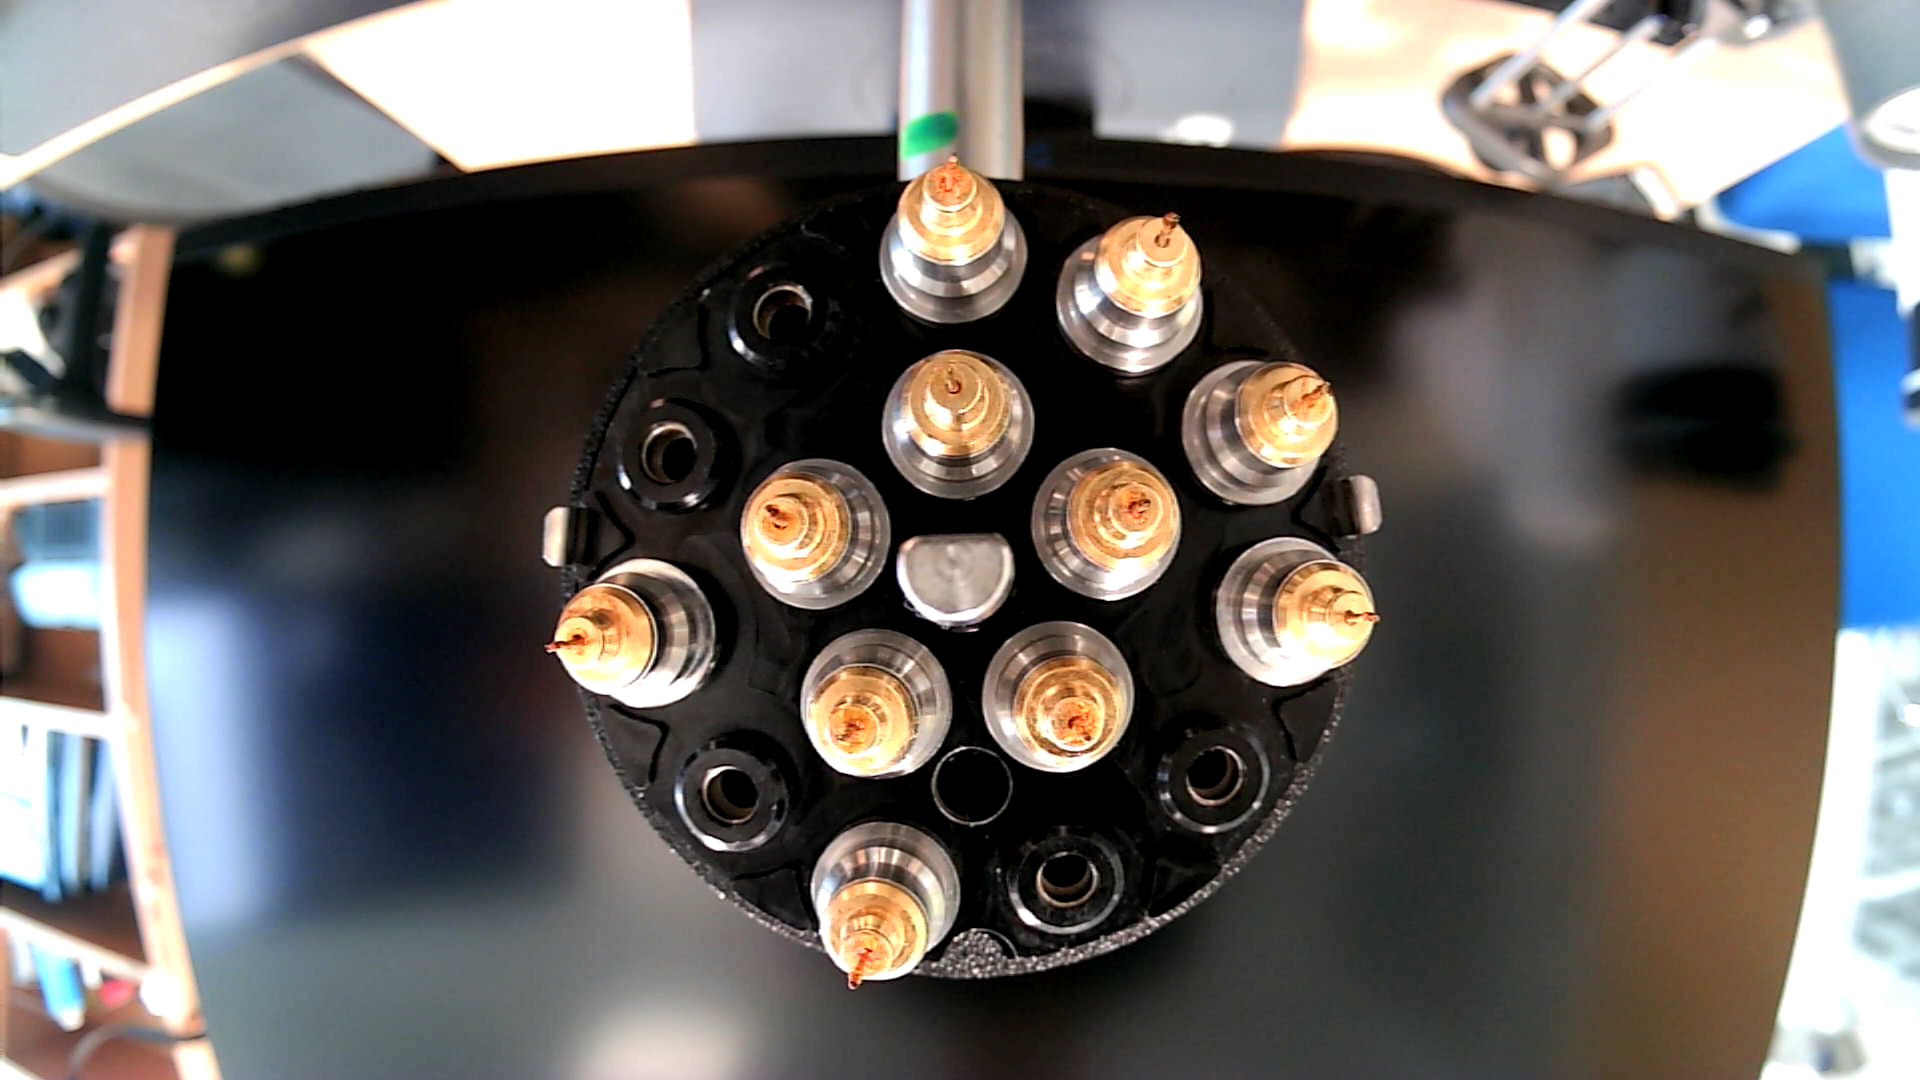empty: (1134, 715, 1275, 847), (998, 812, 1134, 935), (673, 724, 799, 855), (607, 401, 741, 518), (719, 261, 840, 367)
hole: (928, 742, 1014, 832)
pin: (541, 553, 725, 711), (807, 814, 963, 992), (1205, 533, 1377, 690), (880, 153, 1033, 328), (1055, 208, 1207, 380), (796, 625, 956, 782), (877, 345, 1036, 502), (1029, 446, 1183, 605), (1178, 359, 1337, 513), (977, 621, 1133, 778), (738, 455, 894, 611)
rod: (895, 529, 1021, 634)
